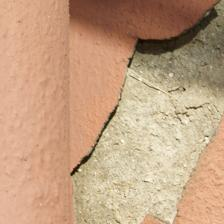Crack: (75, 38, 145, 174), (136, 2, 218, 50)
